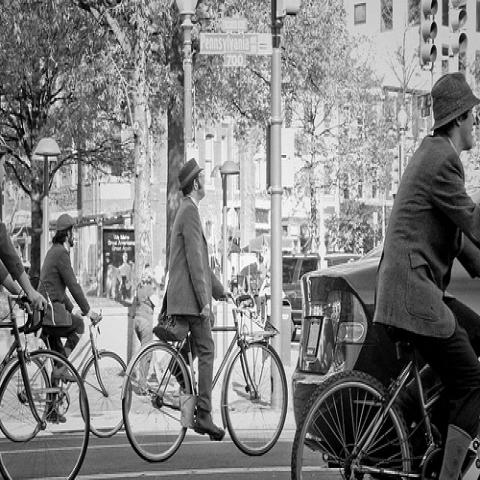car: (293, 242, 400, 427), (281, 255, 361, 338)
